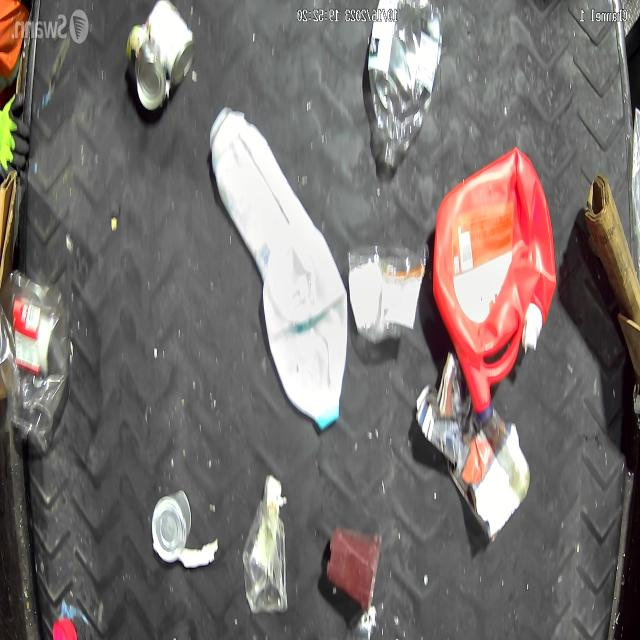can: (125, 0, 198, 117), (150, 479, 194, 567)
milk_jug: (258, 217, 348, 432)
non_white_jug: (434, 144, 561, 425)
plastic_bottle: (364, 0, 446, 174)
